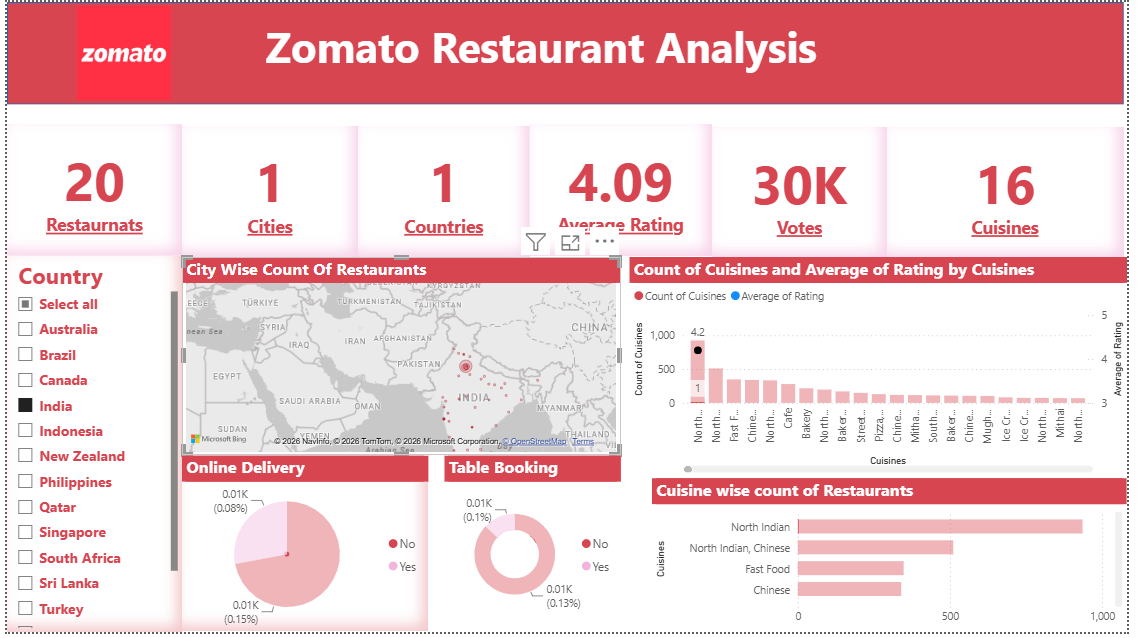

The dashboard page shown, as its layout file describes it:
{"tool":"powerbi","page":{"name":"Page 1","canvas":[1280,720],"ordinal":0},"visuals":[{"type":"shape","box":[0,0,1276.2,117.1],"z":0},{"type":"textbox","box":[267.9,13.5,683.9,91.5],"z":1000},{"type":"card","fields":{"Values":["Count(Restaurants.RestaurantID)"]},"box":[0,140,200,150],"z":2000},{"type":"card","fields":{"Values":["Count(Restaurants.City)"]},"box":[200,141.4,201.4,150],"z":3000},{"type":"card","fields":{"Values":["Count(Restaurants.CountryCode)"]},"box":[401.4,141.4,195.7,150],"z":4000},{"type":"card","fields":{"Values":["Avg(Restaurants.Rating)"]},"box":[597.1,140,208.6,150],"z":5000},{"type":"card","fields":{"Values":["Sum(Restaurants.Votes)"]},"box":[805.7,142.9,200,150],"z":6000},{"type":"card","fields":{"Values":["Count(Restaurants.Cuisines)"]},"box":[1005.7,142.9,270,150],"z":7000},{"type":"slicer","fields":{"Values":["countries.country name"]},"box":[0,289.4,200.6,430.8],"z":8000},{"type":"lineStackedColumnComboChart","fields":{"Y":["CountNonNull(Restaurants.Cuisines)"],"Y2":["Avg(Restaurants.Rating)"],"Category":["Restaurants.Cuisines"]},"box":[710.8,292.1,569.5,251.7],"z":9000},{"type":"map","title":"City Wise Count Of Restaurants","fields":{"Category":["Restaurants.City"],"Size":["CountNonNull(Restaurants.RestaurantID)"]},"box":[200.6,290.8,500.8,227.5],"z":10000},{"type":"clusteredBarChart","title":"Cuisine wise count of Restaurants","fields":{"Category":["Restaurants.Cuisines"],"Y":["CountNonNull(Restaurants.Cuisines)"]},"box":[737.7,543.9,542.5,176.4],"z":11000},{"type":"pieChart","title":"Online Delivery","fields":{"Category":["Restaurants.Has_Online_delivery"],"Y":["CountNonNull(Restaurants.RestaurantID)"]},"box":[200.6,518.3,281.4,200.6],"z":12000},{"type":"donutChart","title":"Table Booking","fields":{"Category":["Restaurants.Has_Table_booking"],"Y":["CountNonNull(Restaurants.RestaurantID)"]},"box":[499.5,518.3,201.9,200.6],"z":13000},{"type":"image","box":[0,0,267.9,117.1],"z":14000}]}

Visuals, with their boxes in screenshot pixels (x1, y1, x2, y2), scaled from the page's 1280x720 canvas onto the 1145x638 screenshot:
shape: <box>0,0,1142,104</box>
textbox: <box>240,12,851,93</box>
card - Count(Restaurants.RestaurantID): <box>0,124,179,257</box>
card - Count(Restaurants.City): <box>179,125,359,258</box>
card - Count(Restaurants.CountryCode): <box>359,125,534,258</box>
card - Avg(Restaurants.Rating): <box>534,124,721,257</box>
card - Sum(Restaurants.Votes): <box>721,127,900,260</box>
card - Count(Restaurants.Cuisines): <box>900,127,1141,260</box>
slicer - countries.country name: <box>0,256,179,637</box>
lineStackedColumnComboChart - CountNonNull(Restaurants.Cuisines) x Avg(Restaurants.Rating): <box>636,259,1144,482</box>
"City Wise Count Of Restaurants" map: <box>179,258,627,459</box>
"Cuisine wise count of Restaurants" clusteredBarChart: <box>660,482,1144,637</box>
"Online Delivery" pieChart: <box>179,459,431,637</box>
"Table Booking" donutChart: <box>447,459,627,637</box>
image: <box>0,0,240,104</box>
